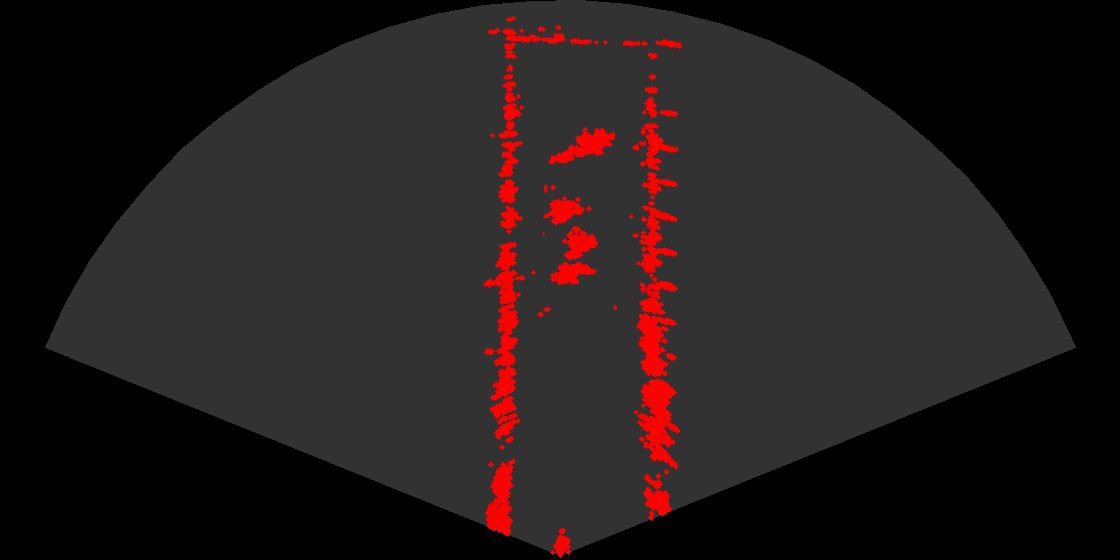AUV: (544, 260, 600, 292)
cage: (543, 185, 606, 269)
frogman: (547, 121, 615, 168)
